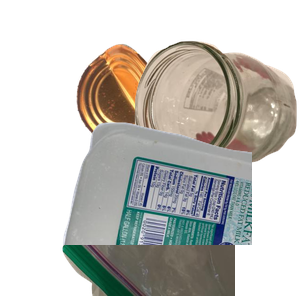glass: (132, 38, 300, 199)
metal: (74, 41, 229, 181)
plastic: (60, 120, 300, 300)
trash: (60, 120, 300, 300)
